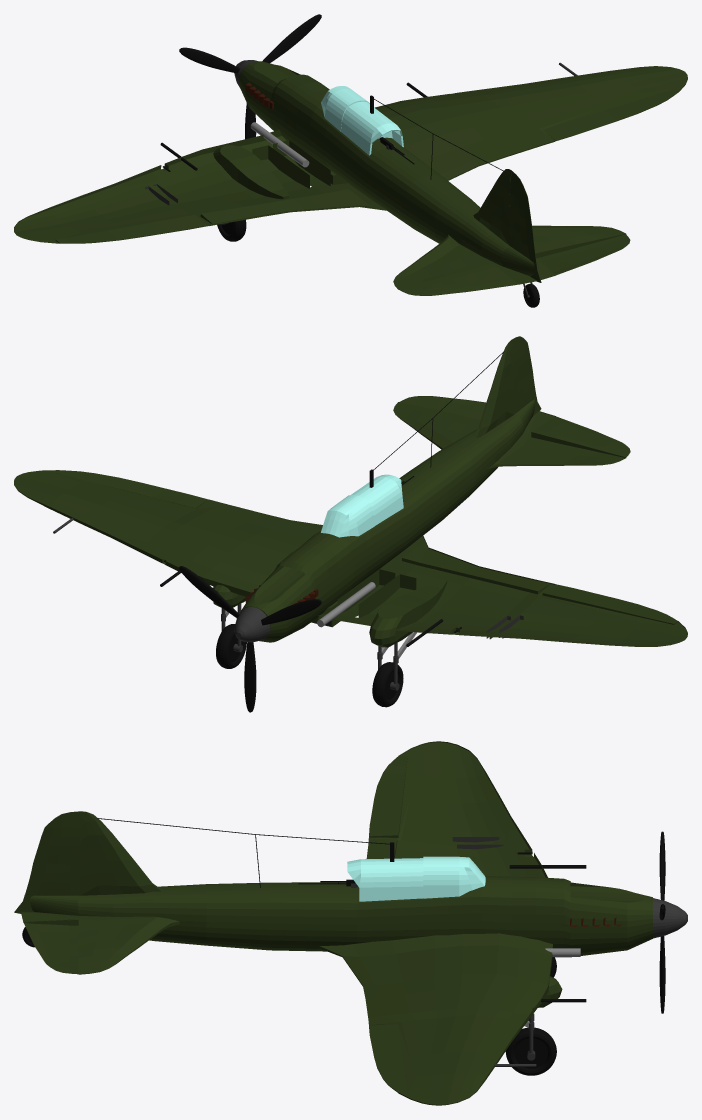
3 renders of one model, top to bottom at view 1: azimuth 30°, elevation 25°; view 2: azimuth 150°, elevation 25°; view 3: azimuth 270°, elevation 25°, orthographic. The views are drawn at different scales.
Parts seen in each view (by area): view 1: Wings_Cube.002, Fuselage_Cylinder, HorizontalStabilizers.001_Cube.004, Elevators_Cube.003, Cockpit_Plane, Flaps_Cube.009, GearPods_Cube.012, RightAileron_Cube.005, LeftAileron_Cube.008, Propeller_Cube.006, VerticalStabilizer_Cube.001, Rudder_Cube (+2 smaller); view 2: Wings_Cube.002, Fuselage_Cylinder, HorizontalStabilizers.001_Cube.004, Cockpit_Plane, Elevators_Cube.003, GearPods_Cube.012, Flaps_Cube.009, Propeller_Cube.006, VerticalStabilizer_Cube.001, LeftAileron_Cube.008, RightAileron_Cube.005, Rudder_Cube (+4 smaller); view 3: Wings_Cube.002, Fuselage_Cylinder, Cockpit_Plane, HorizontalStabilizers.001_Cube.004, VerticalStabilizer_Cube.001, Rudder_Cube, LeftAileron_Cube.008, Elevators_Cube.003, RightGear_Torus, RightAileron_Cube.005, Spinner_Cylinder.001, Propeller_Cube.006 (+1 smaller).
Boxes of the visible parts, bbox=[...] form: Wings_Cube.002: bbox=[14, 66, 687, 243]; Fuselage_Cylinder: bbox=[239, 61, 534, 276]; HorizontalStabilizers.001_Cube.004: bbox=[393, 225, 625, 289]; Elevators_Cube.003: bbox=[399, 234, 630, 295]; Cockpit_Plane: bbox=[321, 86, 403, 155]; Flaps_Cube.009: bbox=[200, 189, 371, 224]; GearPods_Cube.012: bbox=[213, 145, 289, 199]; RightAileron_Cube.005: bbox=[543, 89, 678, 140]; LeftAileron_Cube.008: bbox=[56, 215, 208, 243]; Propeller_Cube.006: bbox=[179, 14, 321, 139]; VerticalStabilizer_Cube.001: bbox=[473, 169, 541, 282]; Rudder_Cube: bbox=[509, 171, 536, 263]; Wings_Cube.002: bbox=[14, 470, 687, 646]; Fuselage_Cylinder: bbox=[239, 399, 534, 642]; HorizontalStabilizers.001_Cube.004: bbox=[393, 402, 626, 468]; Cockpit_Plane: bbox=[321, 474, 403, 537]; Elevators_Cube.003: bbox=[400, 396, 630, 457]; GearPods_Cube.012: bbox=[213, 579, 447, 647]; Flaps_Cube.009: bbox=[402, 543, 550, 594]; Propeller_Cube.006: bbox=[179, 566, 321, 712]; VerticalStabilizer_Cube.001: bbox=[473, 339, 541, 437]; LeftAileron_Cube.008: bbox=[542, 584, 677, 623]; RightAileron_Cube.005: bbox=[56, 470, 207, 507]; Rudder_Cube: bbox=[512, 336, 536, 414]; Wings_Cube.002: bbox=[317, 741, 552, 1105]; Fuselage_Cylinder: bbox=[30, 875, 652, 957]; Cockpit_Plane: bbox=[347, 856, 485, 901]; HorizontalStabilizers.001_Cube.004: bbox=[21, 912, 179, 974]; VerticalStabilizer_Cube.001: bbox=[14, 811, 161, 913]; Rudder_Cube: bbox=[25, 811, 80, 895]; LeftAileron_Cube.008: bbox=[369, 756, 407, 837]; Elevators_Cube.003: bbox=[24, 919, 78, 974]; RightGear_Torus: bbox=[505, 1013, 556, 1075]; RightAileron_Cube.005: bbox=[369, 1024, 407, 1092]; Spinner_Cylinder.001: bbox=[653, 898, 687, 938]; Propeller_Cube.006: bbox=[659, 831, 665, 1013].
Bounding box in the file's own units: 14.86 × 4.22 × 11.64.
